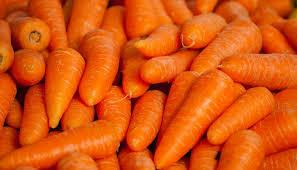Organic: (2, 3, 297, 170)
